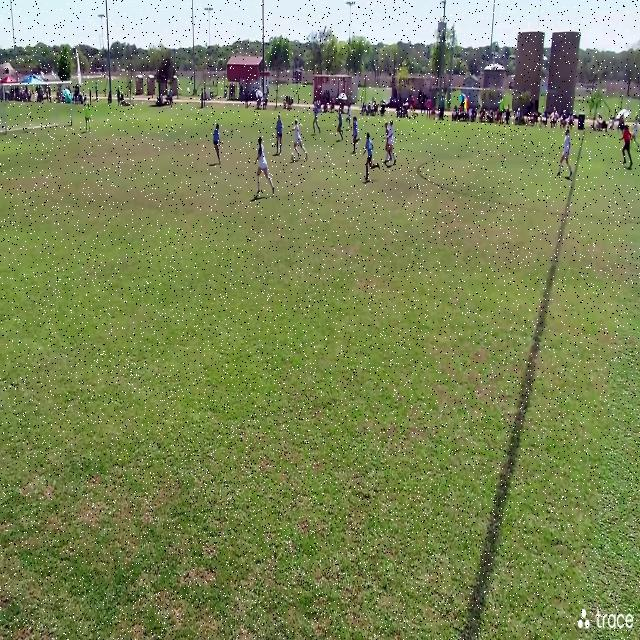Ball: (291, 152, 294, 159)
GoalKeeper: (84, 103, 92, 135)
Referee: (622, 124, 633, 168)
TEAM 1: (362, 132, 378, 184), (212, 122, 222, 164), (352, 113, 361, 155), (276, 114, 284, 156), (312, 102, 322, 134), (338, 104, 346, 142)
TEAM 2: (256, 136, 277, 197), (291, 119, 308, 162), (558, 126, 572, 177), (383, 120, 397, 170), (632, 112, 640, 150), (346, 105, 352, 131)
